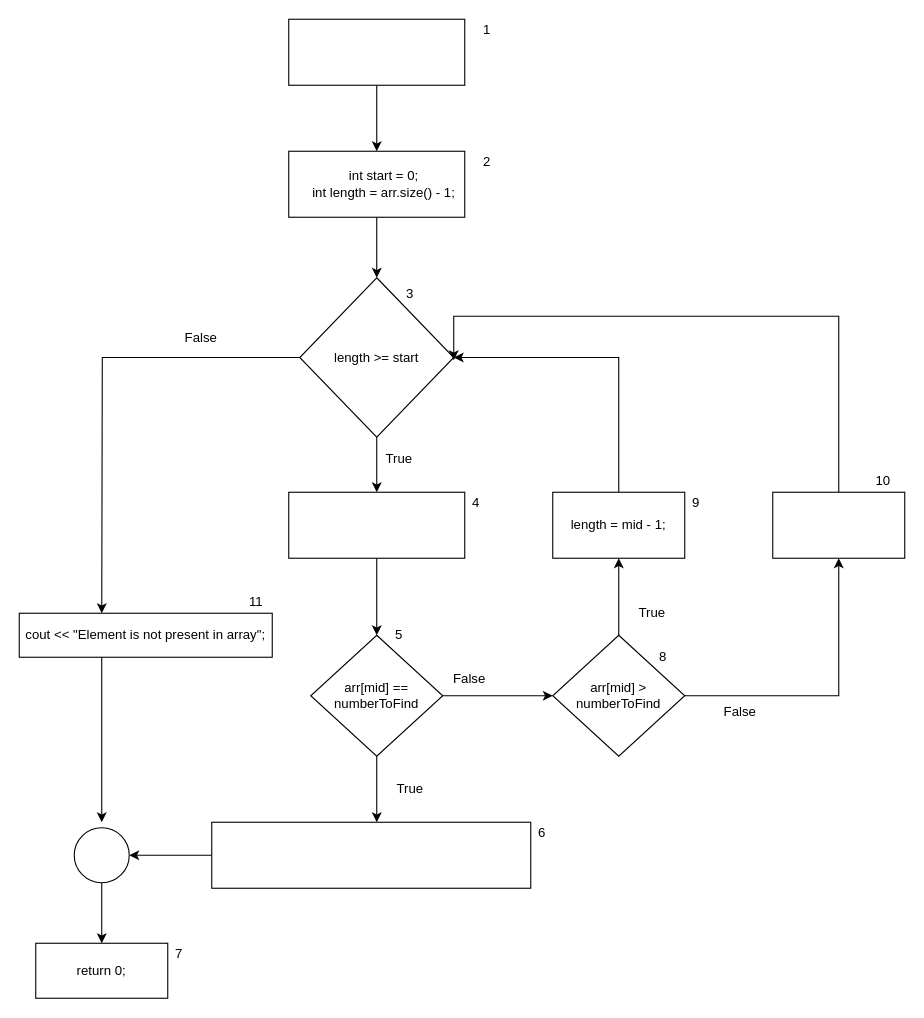
This 924x1018 diagram has some shape labels left out. Each missing label, with the centre of its shape:
cin>>numberToFind;: (x=376, y=51)
cout << "Element is present at index "<< mid;: (x=371, y=854)
int mid = start + (length - start)/2;: (x=376, y=524)
start = mid + 1;: (x=838, y=524)
